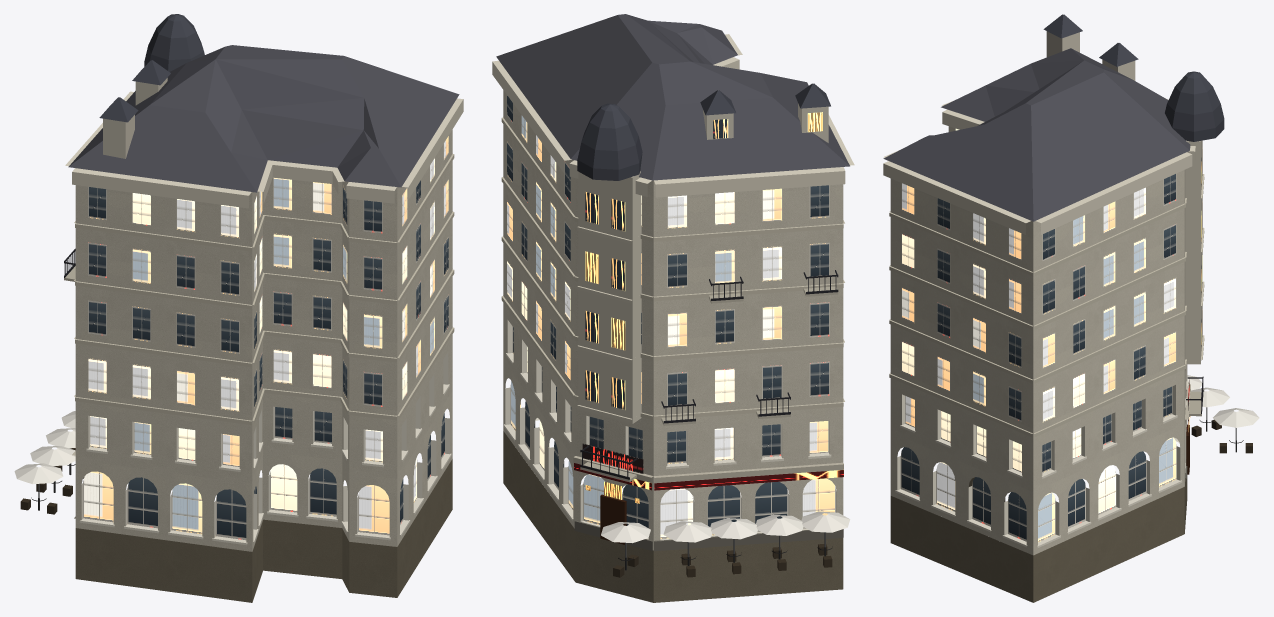
The model's file is calvados.glb.
3 renders of one model, left to right at view 1: azimuth 30°, elevation 25°; view 2: azimuth 150°, elevation 25°; view 3: azimuth 270°, elevation 25°, orthographic. The views are drawn at different scales.
Parts seen in each view (by area): view 1: calvados; view 2: calvados; view 3: calvados.
Part boxes in pixels (bbox=[...]): calvados: bbox=[14, 14, 463, 602]; calvados: bbox=[492, 14, 854, 602]; calvados: bbox=[883, 14, 1259, 602].
Bounding box in the file's own units: 24.13 × 28.3 × 21.58.
3 materials, 3 textured.
